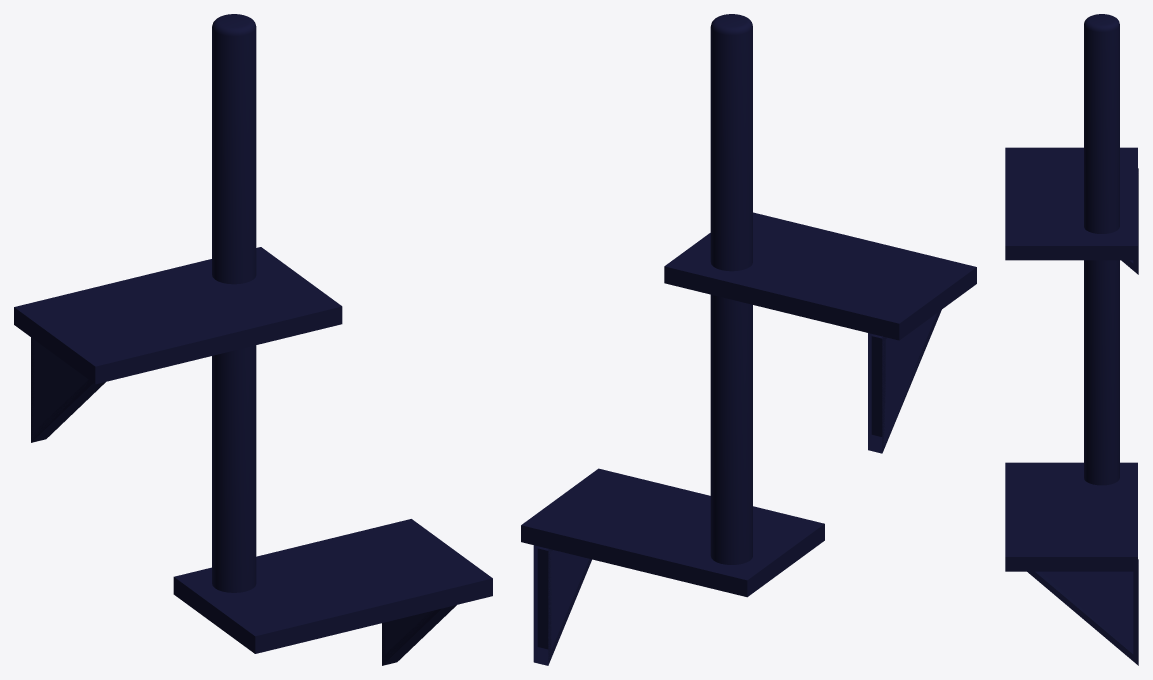
File: small tower.fbx
3 renders of one model, left to right at view 1: azimuth 30°, elevation 25°; view 2: azimuth 150°, elevation 25°; view 3: azimuth 270°, elevation 25°, orthographic. The views are drawn at different scales.
Parts seen in each view (by area): view 1: Cylinder.022; view 2: Cylinder.022; view 3: Cylinder.022.
Boxes of the visible parts, box(x1,y1,x2,y2) form: Cylinder.022: box(14, 14, 492, 665); Cylinder.022: box(521, 14, 976, 665); Cylinder.022: box(1005, 14, 1138, 665).
Size of the model in its own units: 45.81 by 77.39 by 16.34.
